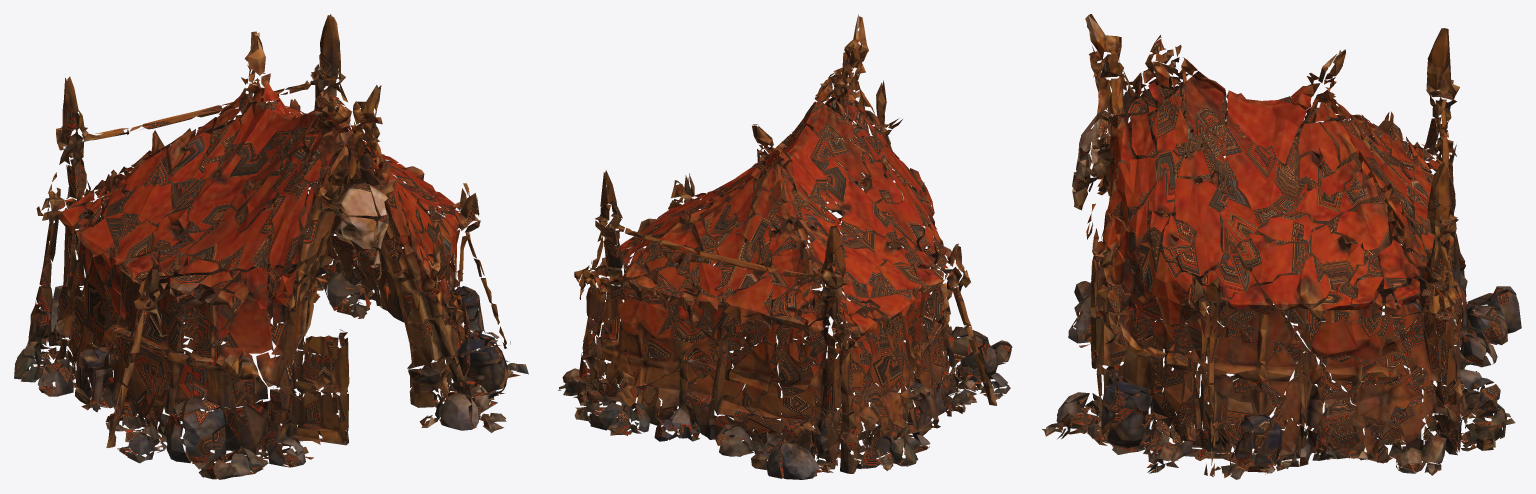
The model's file is goblin_tent.glb.
3 renders of one model, left to right at view 1: azimuth 30°, elevation 25°; view 2: azimuth 150°, elevation 25°; view 3: azimuth 270°, elevation 25°, orthographic. The views are drawn at different scales.
Visible parts, largest first — view 1: world; view 2: world; view 3: world.
Boxes of the visible parts, x1=… form: world: x1=14, y1=14, x2=528, y2=479; world: x1=558, y1=14, x2=1012, y2=479; world: x1=1042, y1=14, x2=1521, y2=479.
Size of the model in its own units: 1.85 by 1.54 by 1.8.
Materials: 1 (1 with a texture image).
